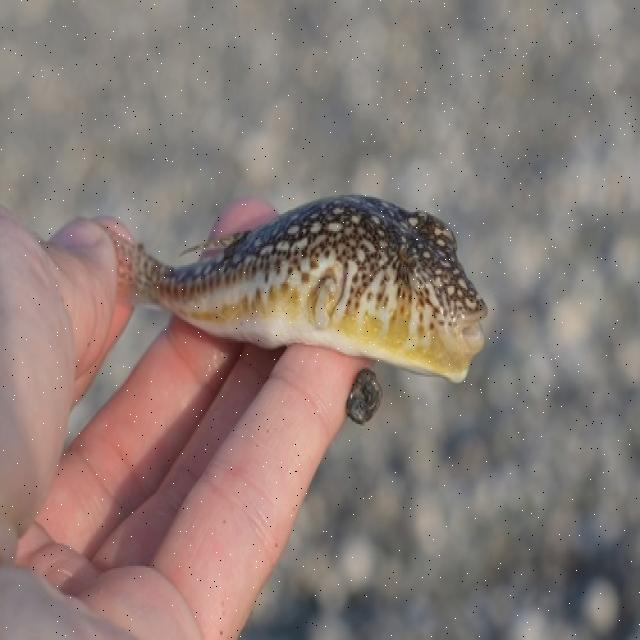Balik: (111, 196, 486, 382)
